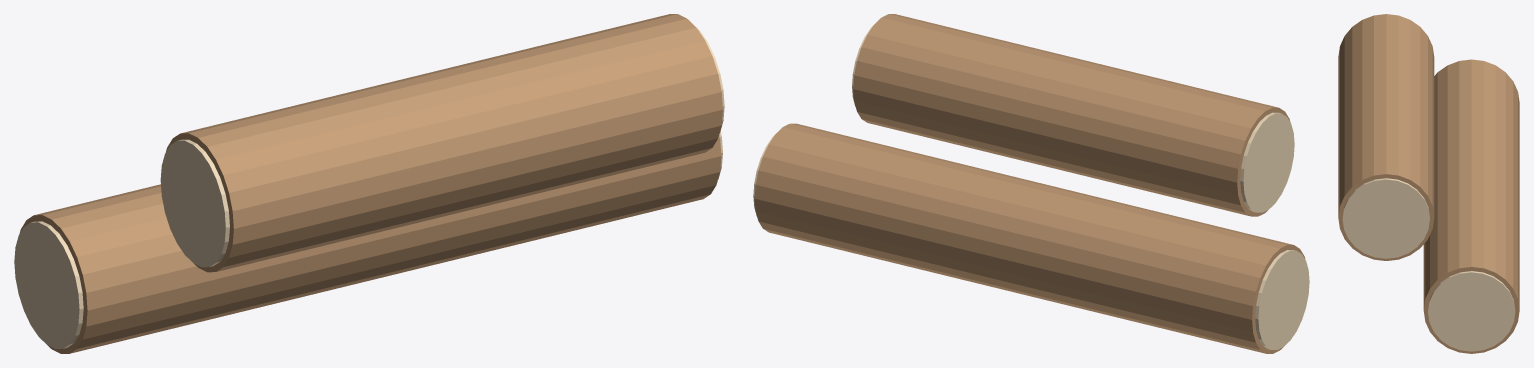
File: wood_logs.glb
3 views of the same model, side by side, from view 1: azimuth 30°, elevation 25°; view 2: azimuth 150°, elevation 25°; view 3: azimuth 270°, elevation 25° (orthographic). The views are drawn at different scales.
Visible parts, largest first — view 1: wood_logs_9, wood_logs_12, wood_logs_0, wood_logs_6, wood_logs_3, wood_logs_10, wood_logs_1; view 2: wood_logs_0, wood_logs_9, wood_logs_6, wood_logs_12, wood_logs_3, wood_logs_10, wood_logs_1; view 3: wood_logs_12, wood_logs_9, wood_logs_6, wood_logs_0, wood_logs_3, wood_logs_14, wood_logs_8.
Boxes of the visible parts, x1,y1,x2,y2 form: wood_logs_9: (166,49,578,272); wood_logs_12: (325,14,722,234); wood_logs_0: (19,185,473,353); wood_logs_6: (325,135,721,288); wood_logs_3: (159,179,597,317); wood_logs_10: (160,139,229,267); wood_logs_1: (14,221,83,348); wood_logs_0: (949,171,1305,353); wood_logs_9: (967,41,1290,216); wood_logs_6: (754,123,1085,302); wood_logs_12: (853,14,1164,188); wood_logs_3: (852,147,1182,325); wood_logs_10: (1240,112,1294,212); wood_logs_1: (1255,250,1309,349); wood_logs_12: (1338,61,1434,260); wood_logs_9: (1338,14,1434,166); wood_logs_6: (1423,141,1519,353); wood_logs_0: (1434,59,1519,227); wood_logs_3: (1423,100,1519,268); wood_logs_14: (1342,178,1429,258); wood_logs_8: (1428,271,1515,351).
Size of the model in its own units: 0.467 by 0.165 by 0.17.
